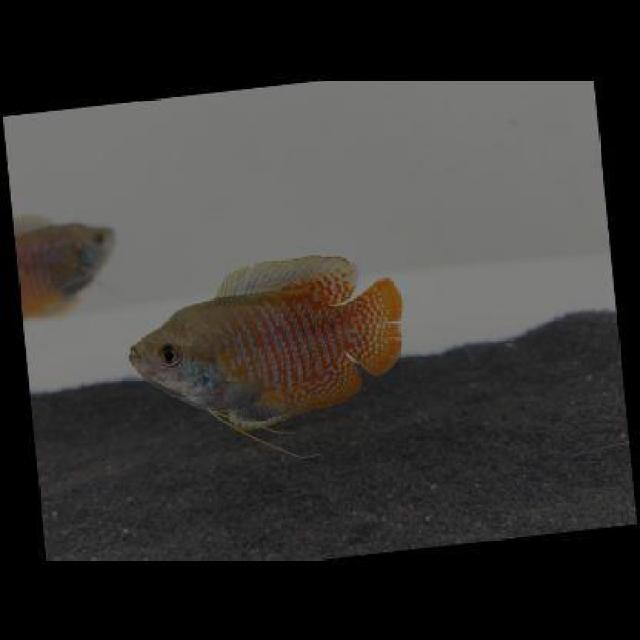Gourami: (126, 250, 406, 433)
